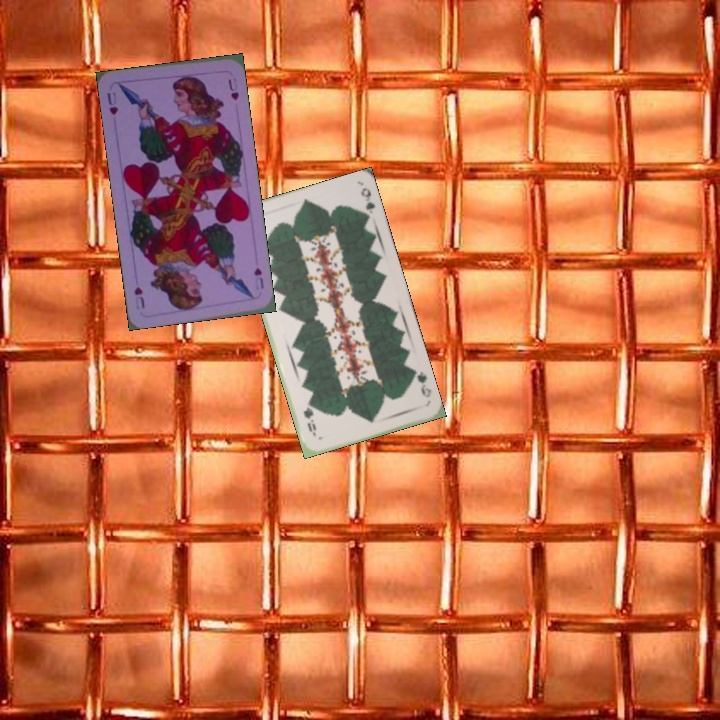G9: (409, 366, 434, 400)
HU: (103, 88, 121, 118), (250, 263, 266, 292)
